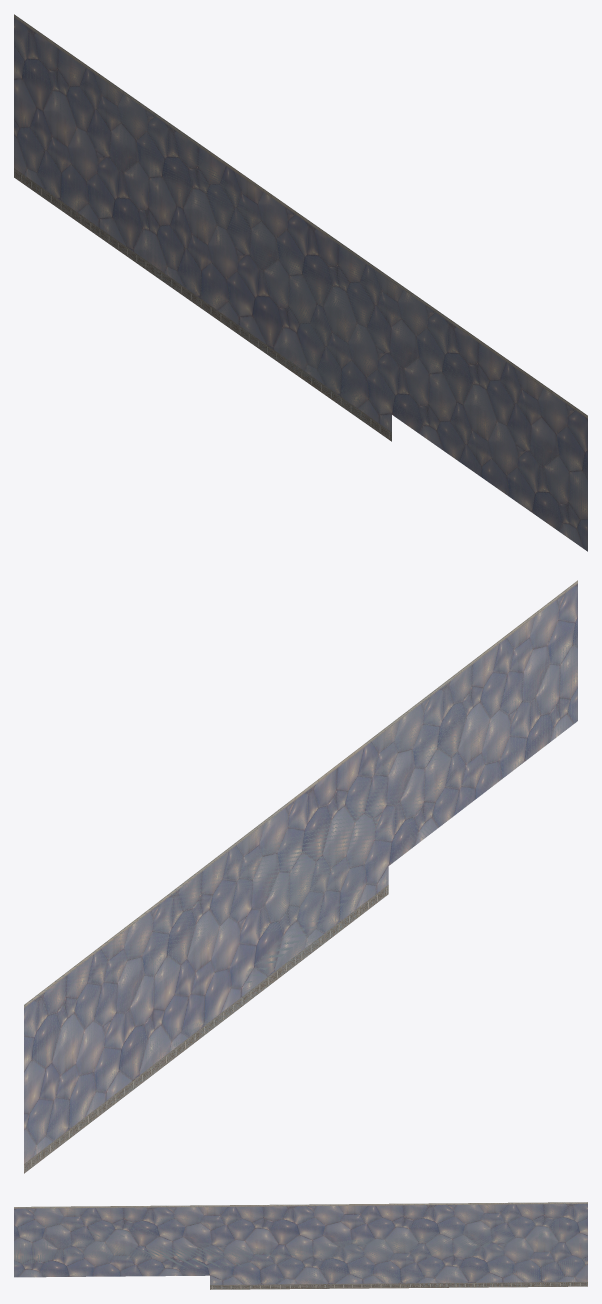
Rendered from 水立方3.dae.
3 views of the same model, one above another, from view 1: azimuth 30°, elevation 25°; view 2: azimuth 150°, elevation 25°; view 3: azimuth 270°, elevation 25° (orthographic). The views are drawn at different scales.
Visible parts, largest first — view 1: SketchUp; view 2: SketchUp; view 3: SketchUp.
Boxes of the visible parts, <box> form: SketchUp: <box>14,14,587,551</box>; SketchUp: <box>24,580,577,1173</box>; SketchUp: <box>14,1202,587,1289</box>.
Bounding box in the file's own units: 141 × 7113 × 1155.
2 materials, 1 textured.
